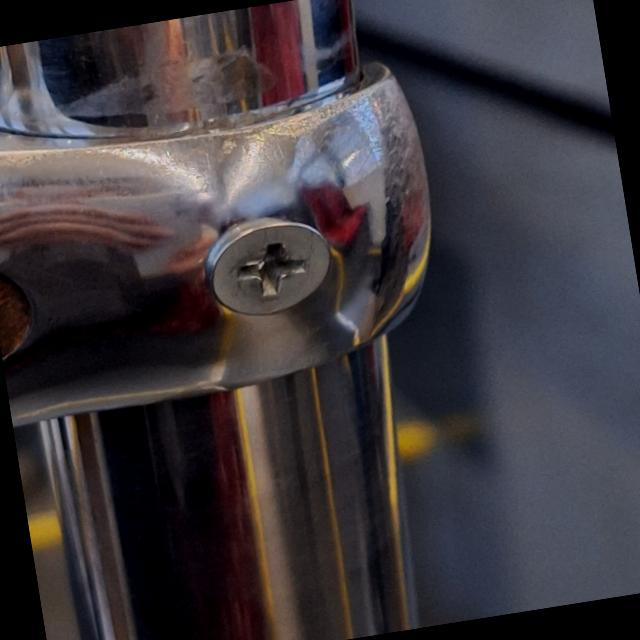Phillips: (198, 208, 336, 324)
